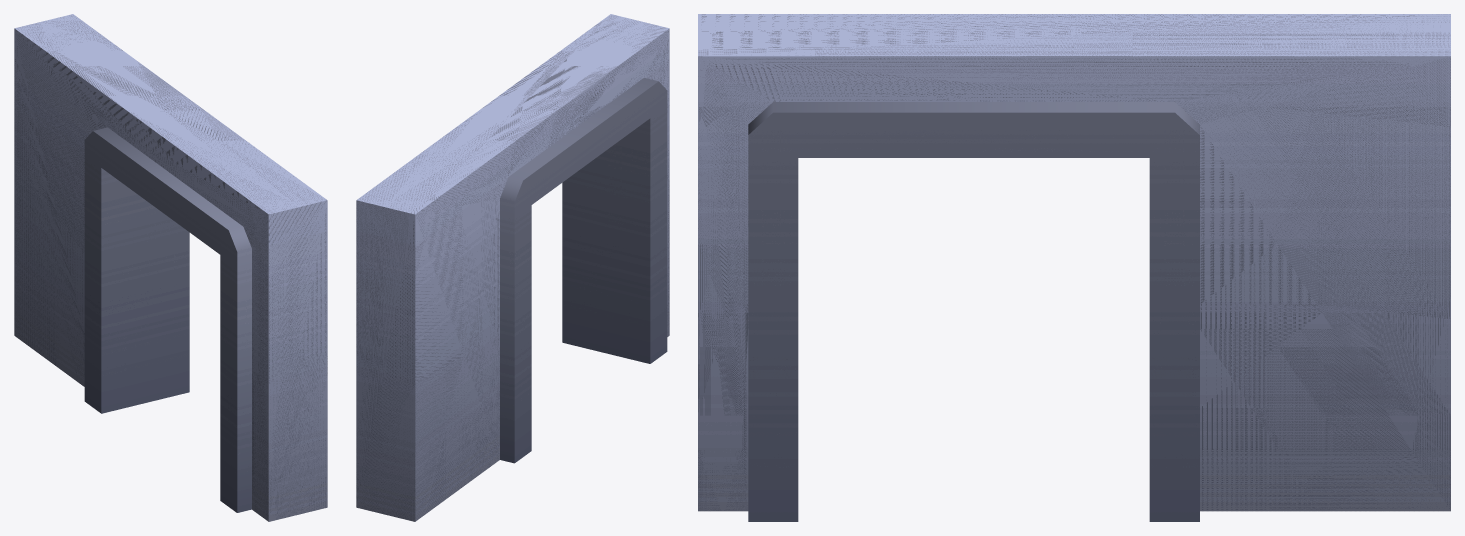
Rendered from wall_doorway_sliding.glb.
3 renders of one model, left to right at view 1: azimuth 30°, elevation 25°; view 2: azimuth 150°, elevation 25°; view 3: azimuth 270°, elevation 25°, orthographic. The views are drawn at different scales.
Parts seen in each view (by area): view 1: wall-doorway-sliding; view 2: wall-doorway-sliding; view 3: wall-doorway-sliding.
Boxes of the visible parts, left/top/right/bottom form: wall-doorway-sliding: left=14, top=14, right=327, bottom=521; wall-doorway-sliding: left=356, top=14, right=669, bottom=521; wall-doorway-sliding: left=698, top=14, right=1450, bottom=521.
Size of the model in its own units: 0.3 by 1 by 1.5.
1 material, 1 textured.
